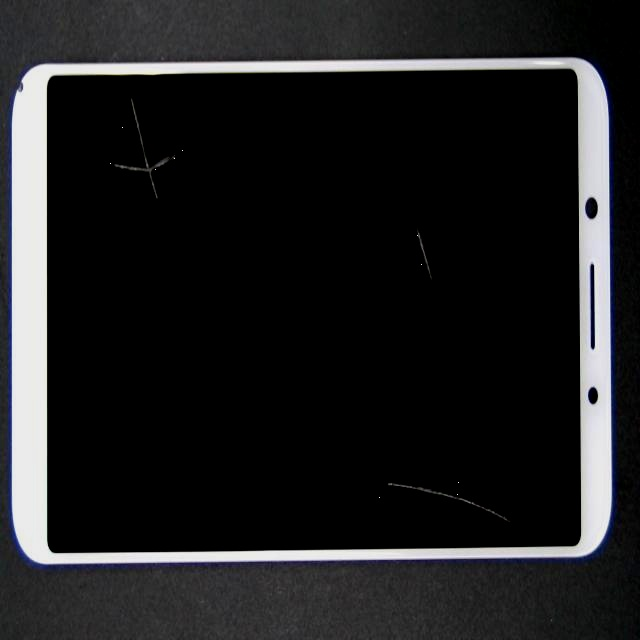scratch: (102, 228, 616, 640), (188, 137, 627, 433), (85, 113, 222, 196)
